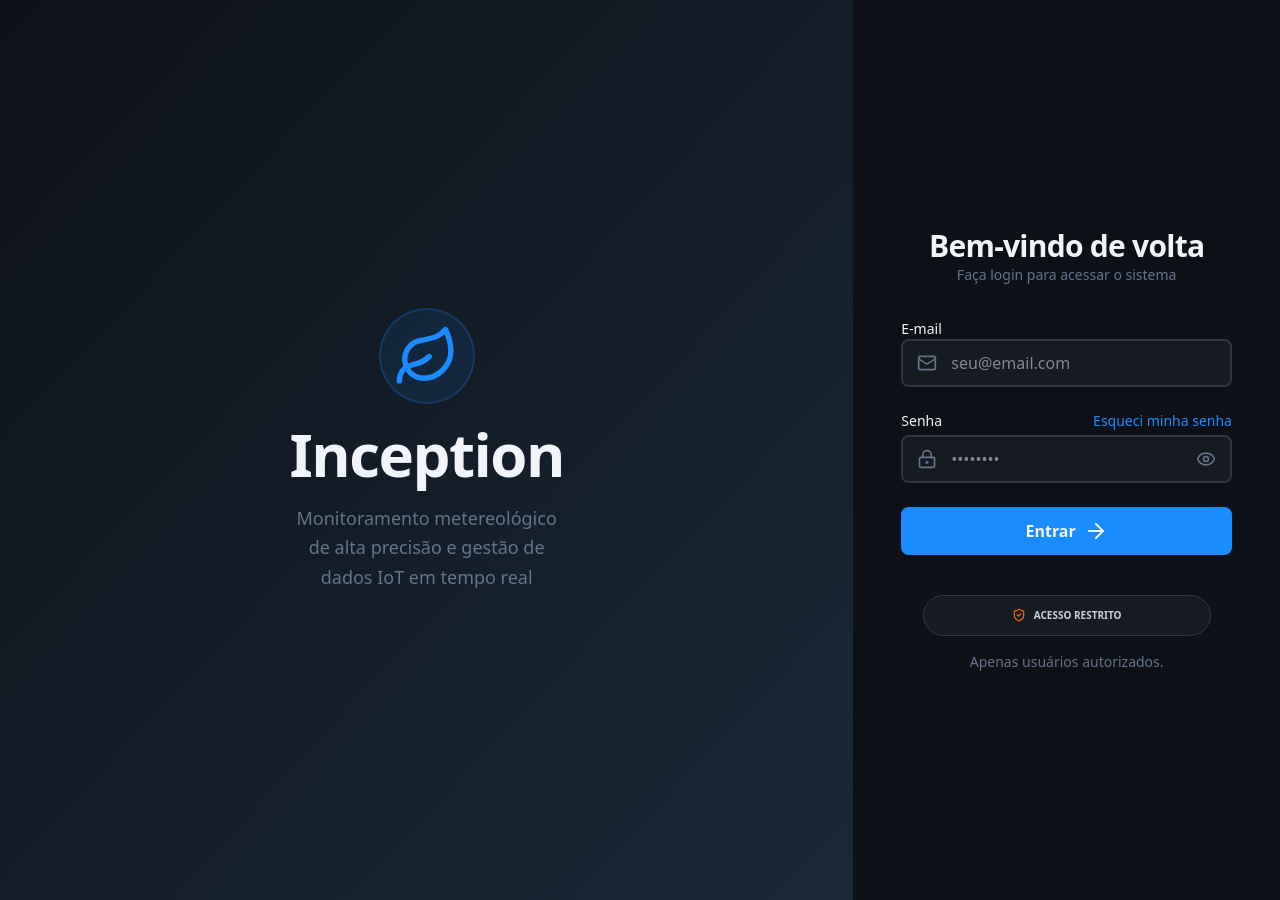
Test: Página de Login › deve permitir digitar email e senha e alternar a visualização da senha
Type "teste@fatec.com" into the field with placeholder "seu@email.com".
click(1067, 363); type("teste@fatec.com")  # box x1=901 y1=339 x2=1232 y2=387
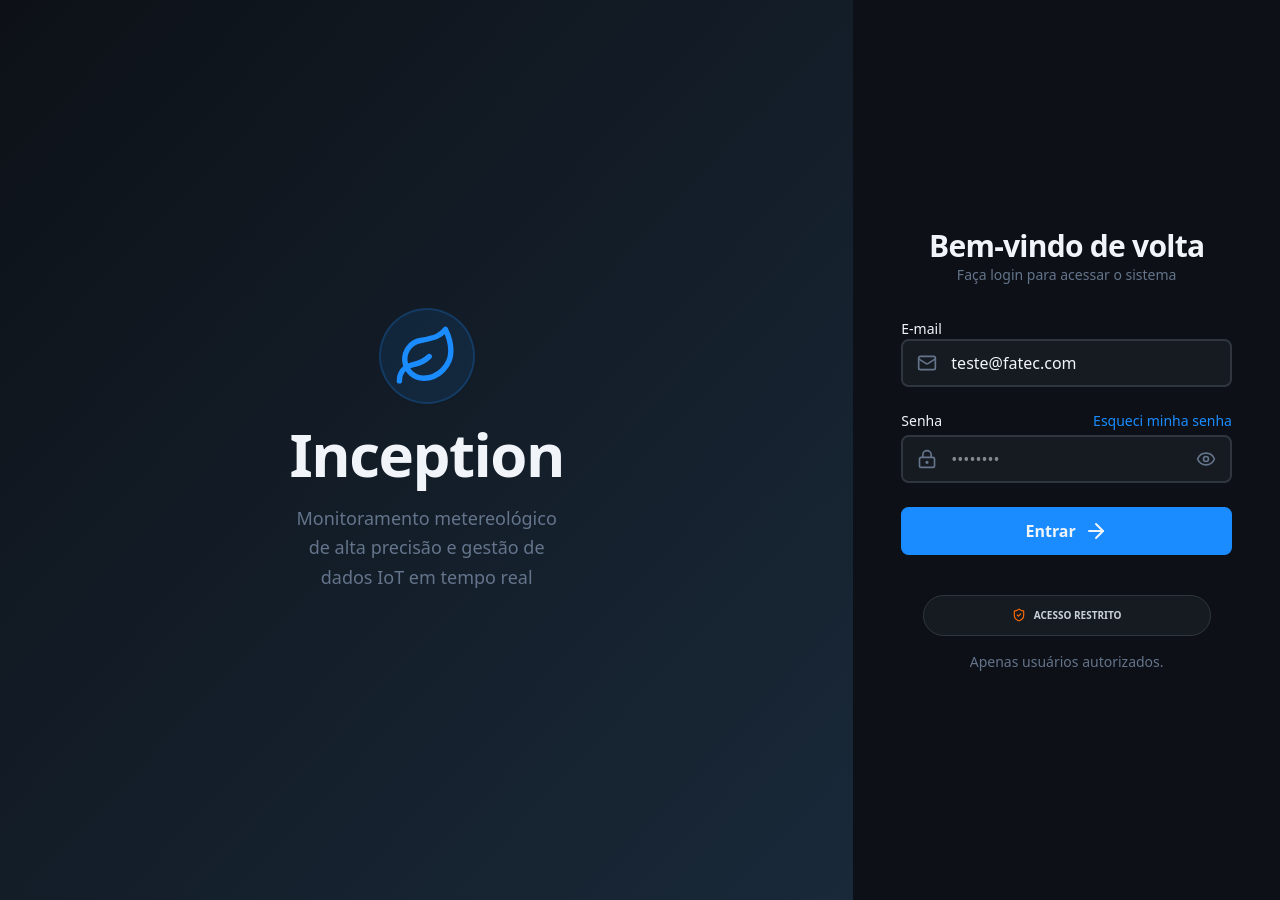
Type "senha123" into the password field with placeholder "••••••••".
click(1067, 459); type("senha123")  # box x1=901 y1=435 x2=1232 y2=483
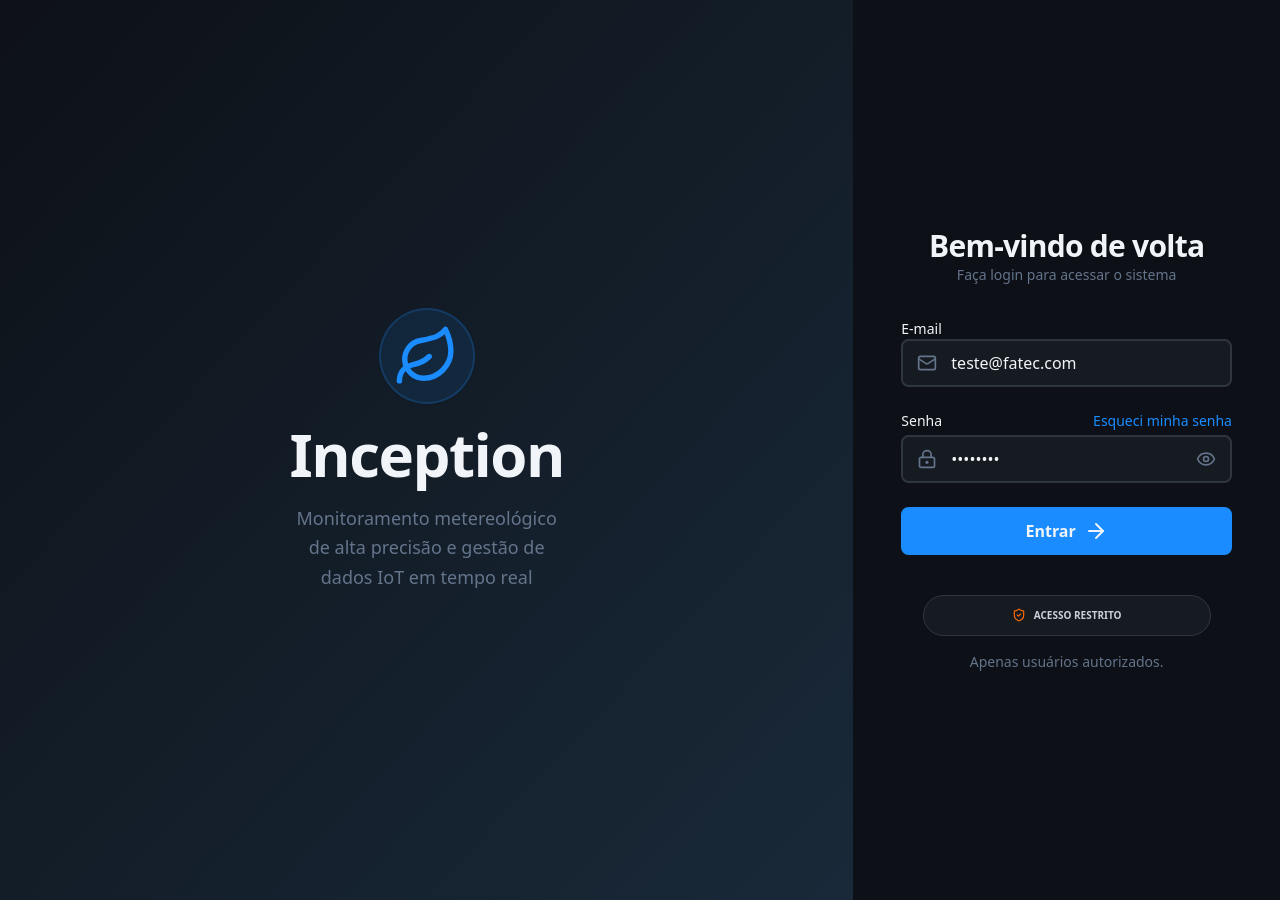
Click the 1st button.
click(1206, 459)  # box x1=1196 y1=449 x2=1216 y2=469
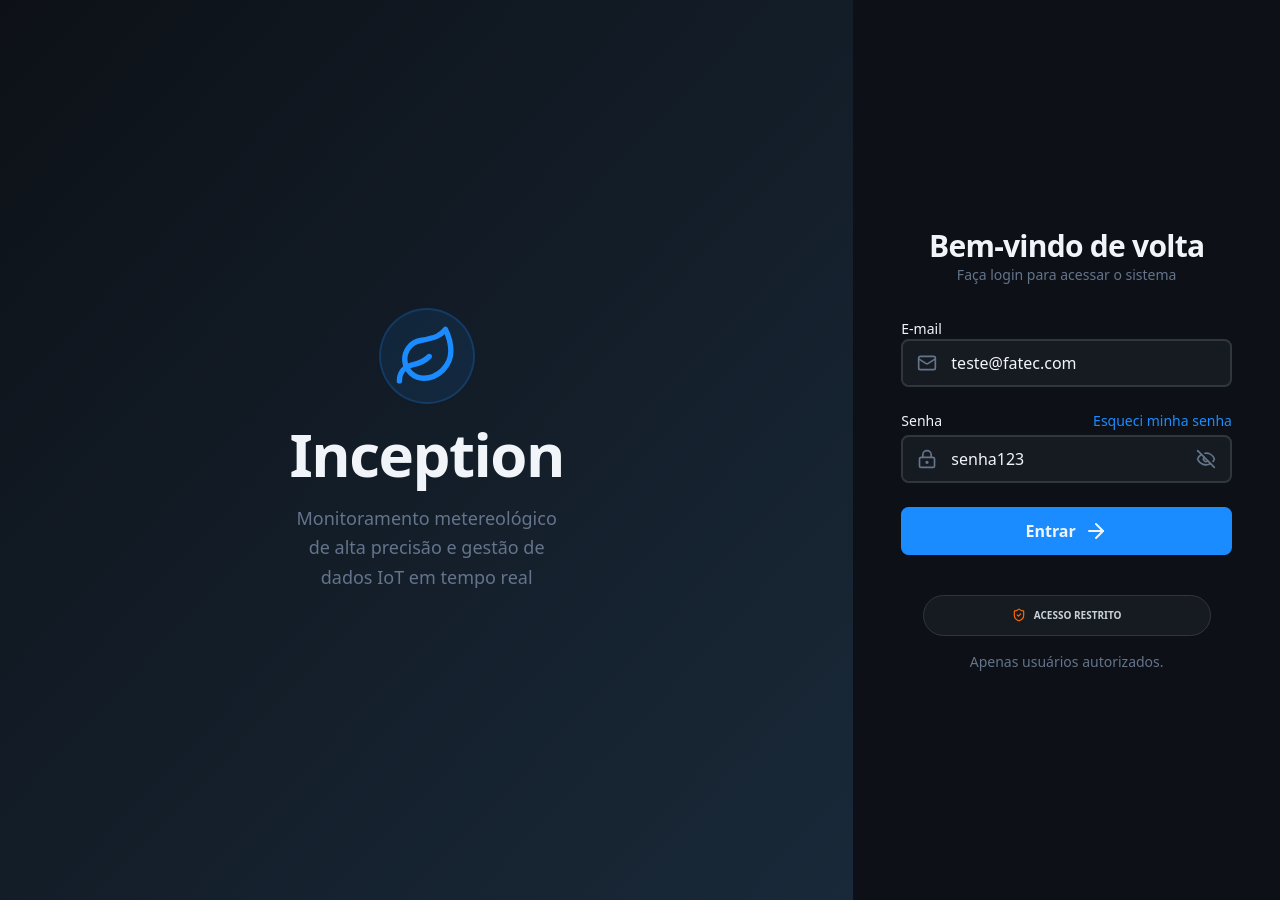
Check: the field with placeholder "••••••••" below "Esqueci minha senha" shows its text, box x1=901 y1=435 x2=1232 y2=483
Click the 1st button.
click(1206, 459)  # box x1=1196 y1=449 x2=1216 y2=469
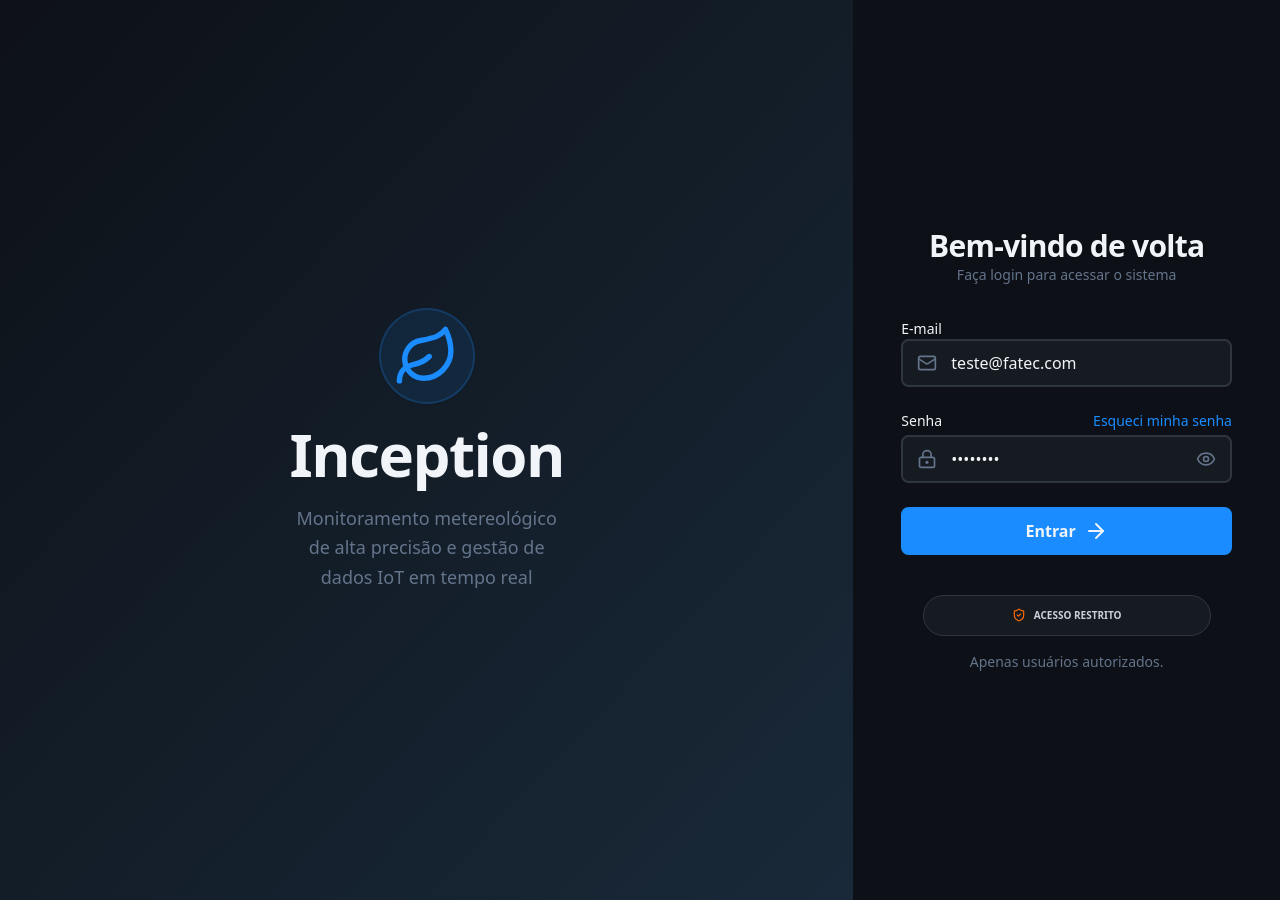
Check: the password field with placeholder "••••••••" hides its text, box x1=901 y1=435 x2=1232 y2=483
